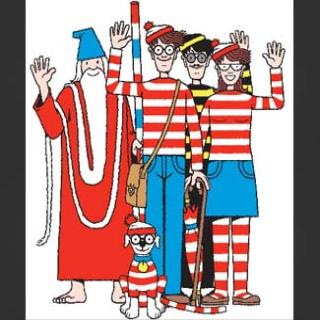Waldo: (142, 19, 185, 77)
